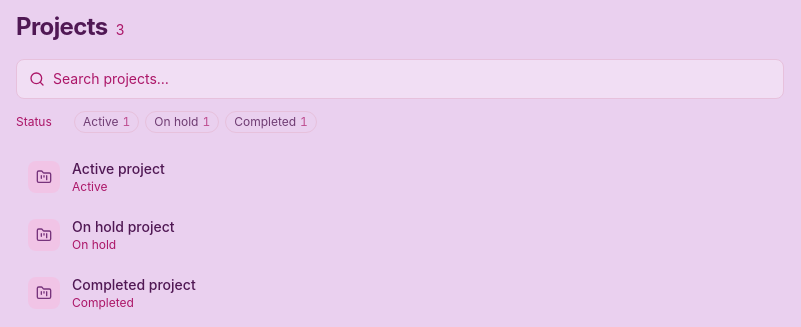
Scenario: EntityCollection › filters rows when a status chip is selected and restores when cleared
Expected: the text "Active project" is shown, [72,160,165,177]
Click the button "Completed 1" at (271, 122), box [225,111,317,133]
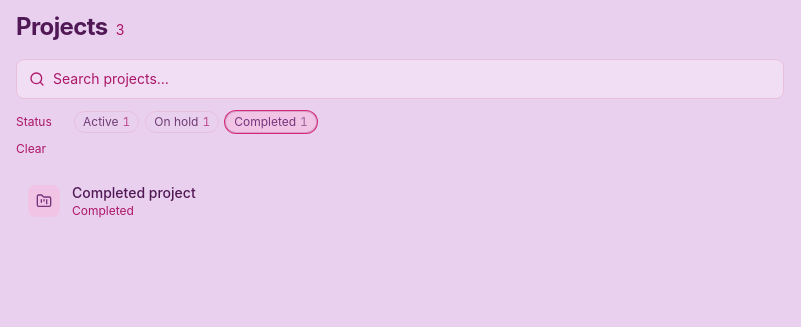
Expected: the text "Completed project" is shown, [72,184,196,201]
Now the button "Active project" is gone
Now the button "On hold project" is gone
# Clicking the chip again clears it → all rows return.
Click the button "Completed 1" at (271, 122), box [225,111,317,133]
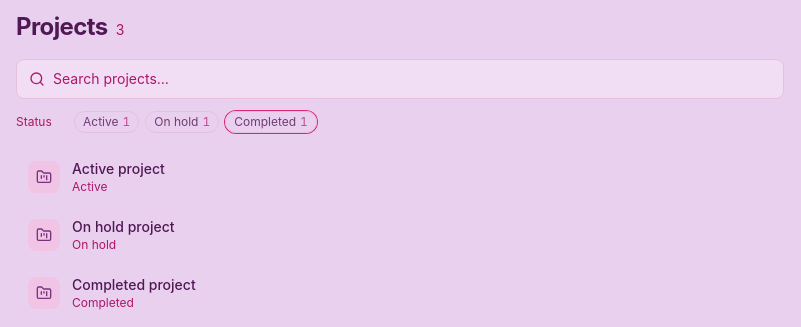
Now the text "Active project" is shown, box [72,160,165,177]
Now the text "On hold project" is shown, box [72,218,174,235]
